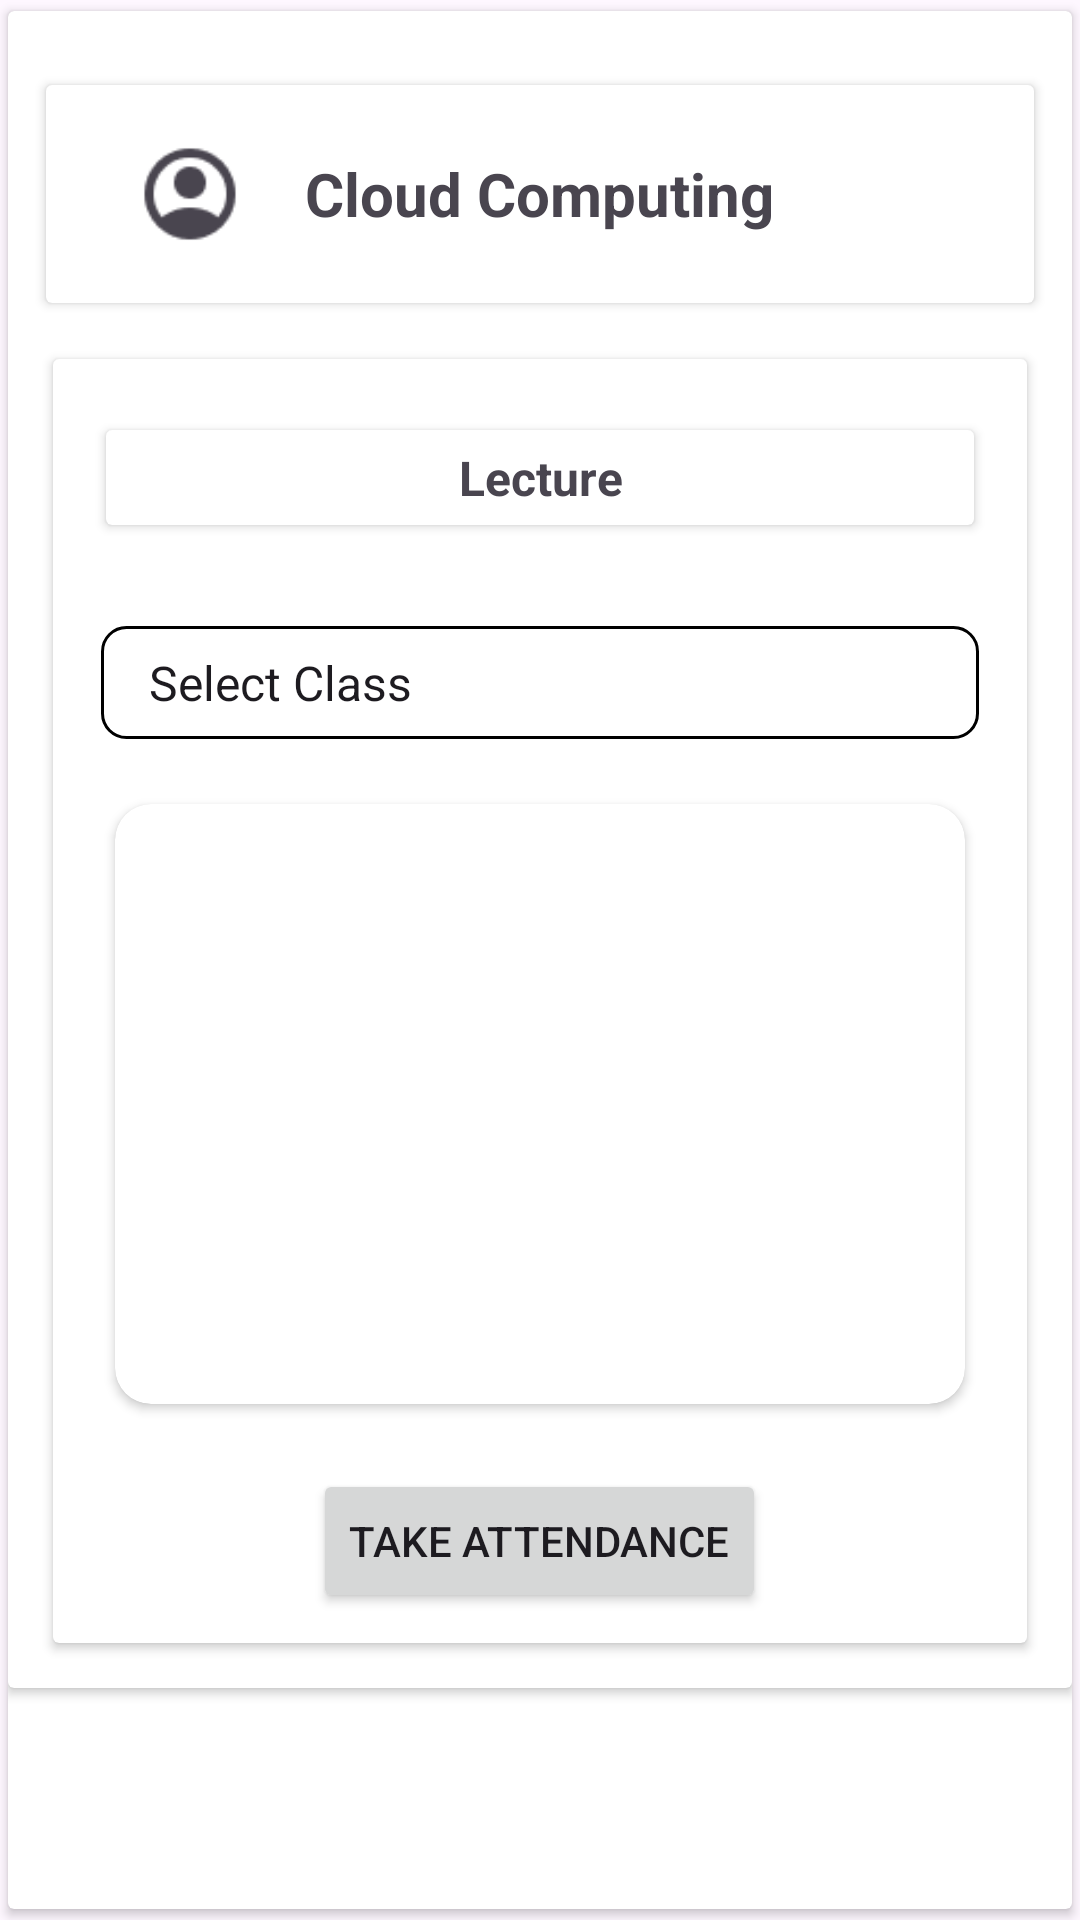

Icon click points for this 1080x1920 phone screenshot, format point (x, y):
profile: point (190, 194)
